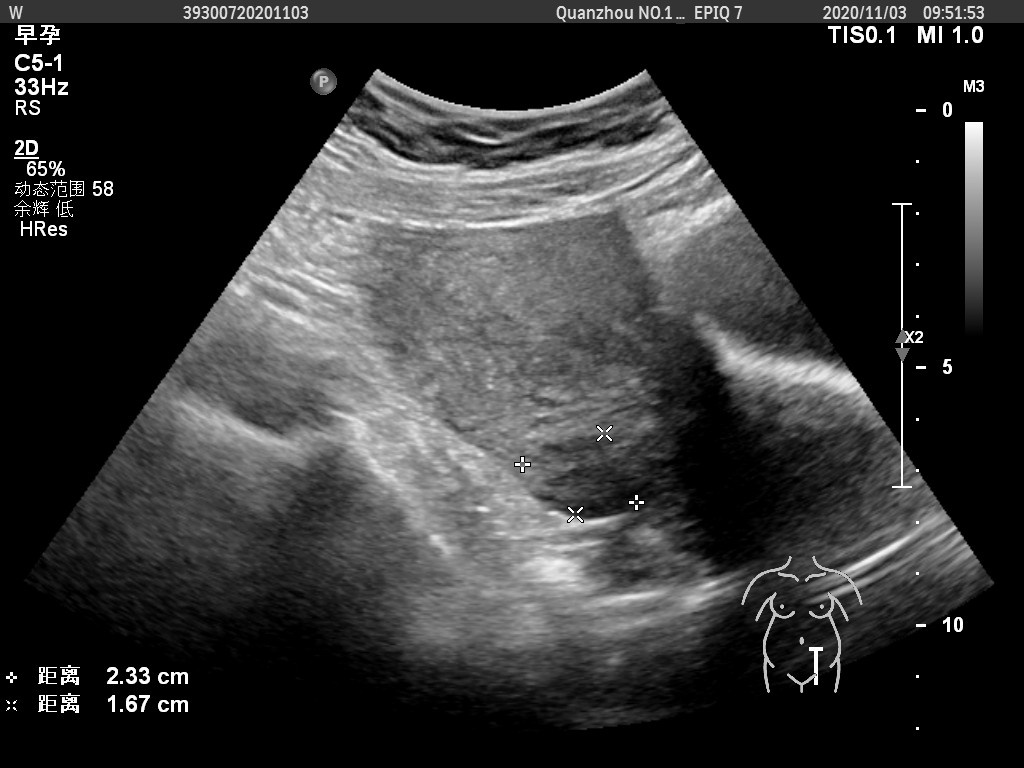肌瘤: (551, 446, 628, 509)
